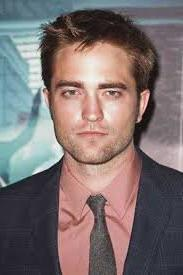Sober: (58, 48, 134, 154)
